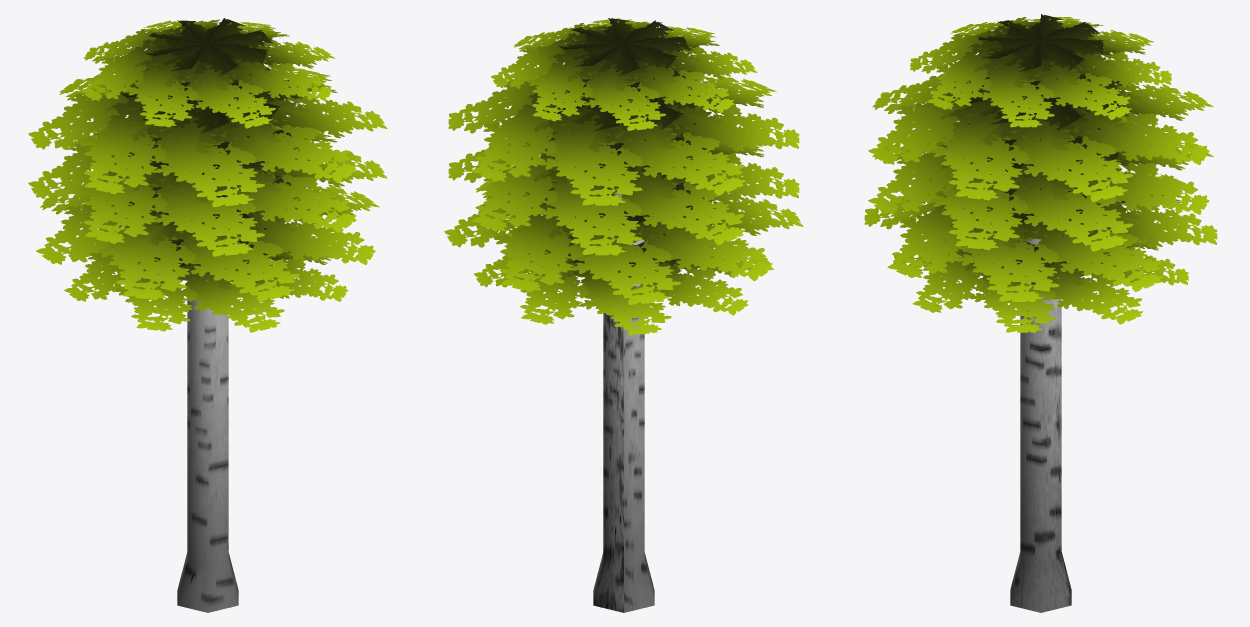
File: ms_BirchTree01.fbx
3 views of the same model, side by side, from view 1: azimuth 30°, elevation 25°; view 2: azimuth 150°, elevation 25°; view 3: azimuth 270°, elevation 25° (orthographic).
Visible parts, largest first — view 1: polySurface43; view 2: polySurface43; view 3: polySurface43.
Part boxes in pixels (x1,y1,x2,y2): polySurface43: (28,18,387,612); polySurface43: (444,18,803,612); polySurface43: (864,14,1217,612).
Bounding box in the file's own units: 204 × 323 × 204.
